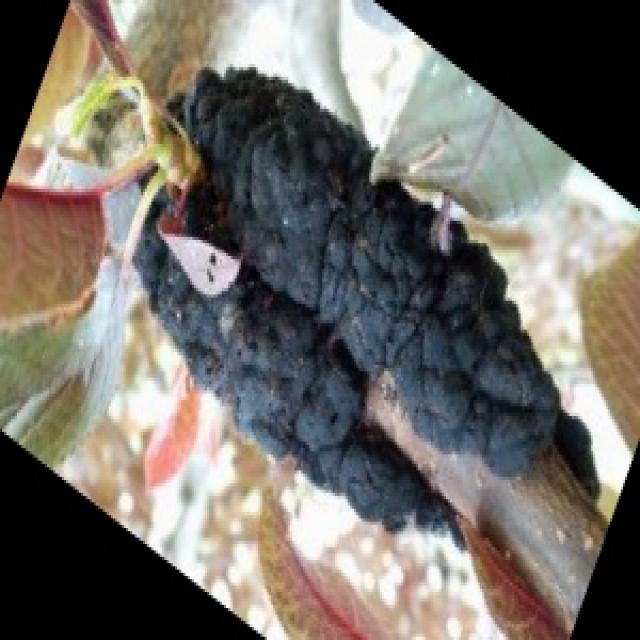Black_knot: (135, 58, 600, 544)
